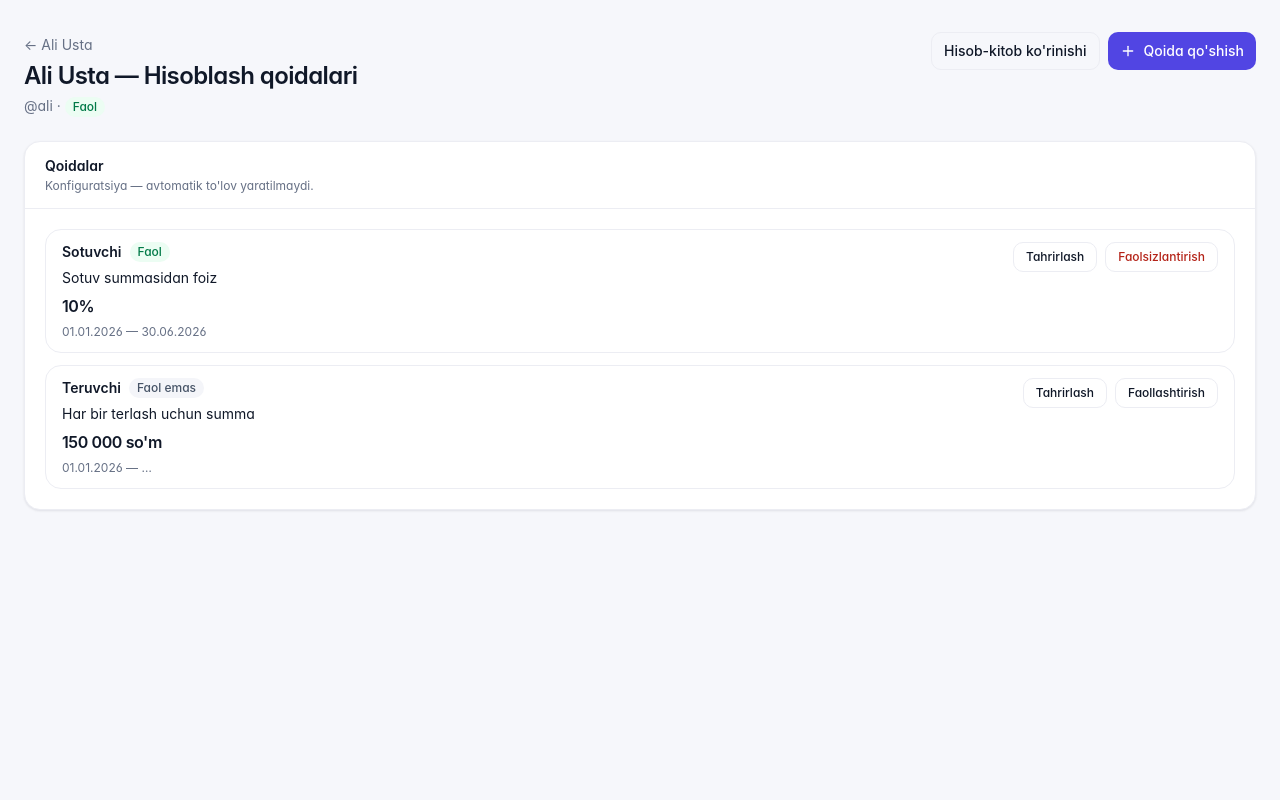
Scenario: WorkerCompensationPage › keeps dialog open and shows overlap error on 409
Step 1. Click the button "Qoida qo'shish" → click(1182, 51), box [1108, 32, 1256, 70]
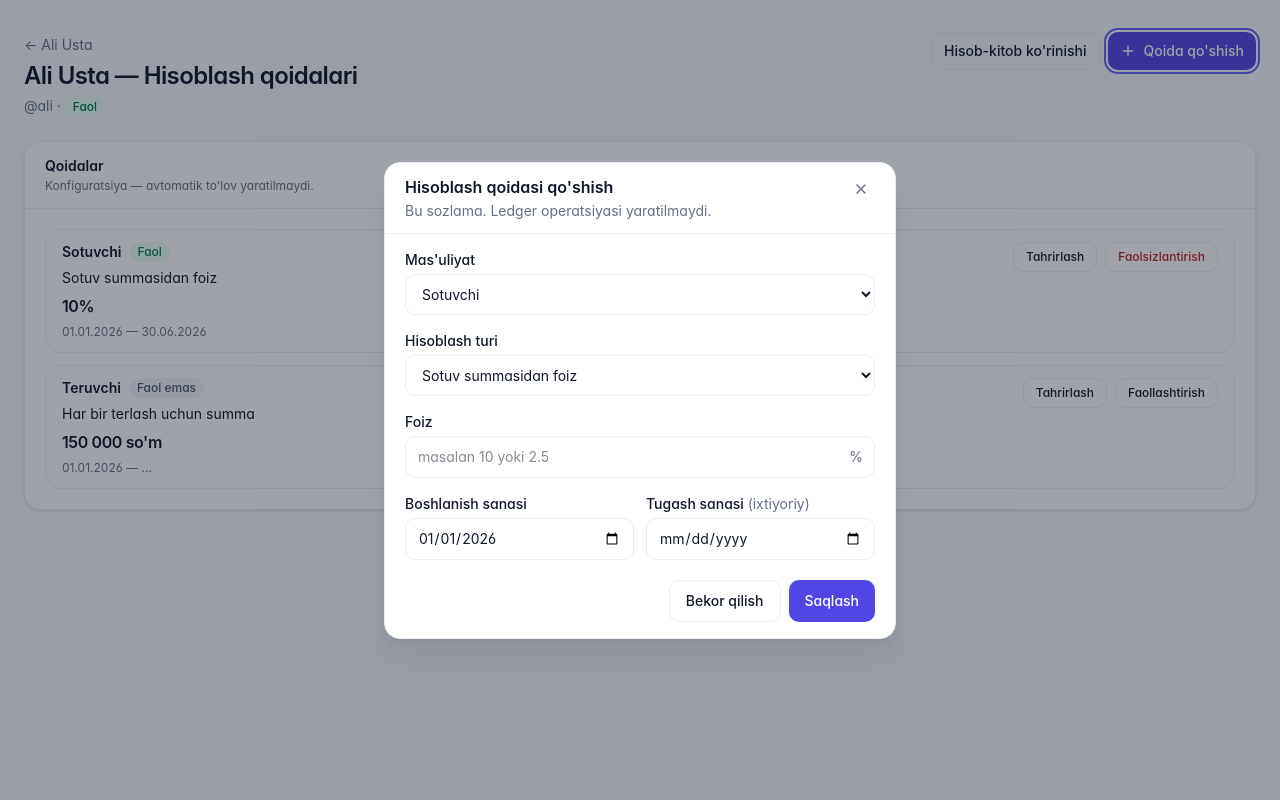
Step 2. Type "10" into the field labelled "Foiz" → (640, 456), box [405, 436, 875, 478]
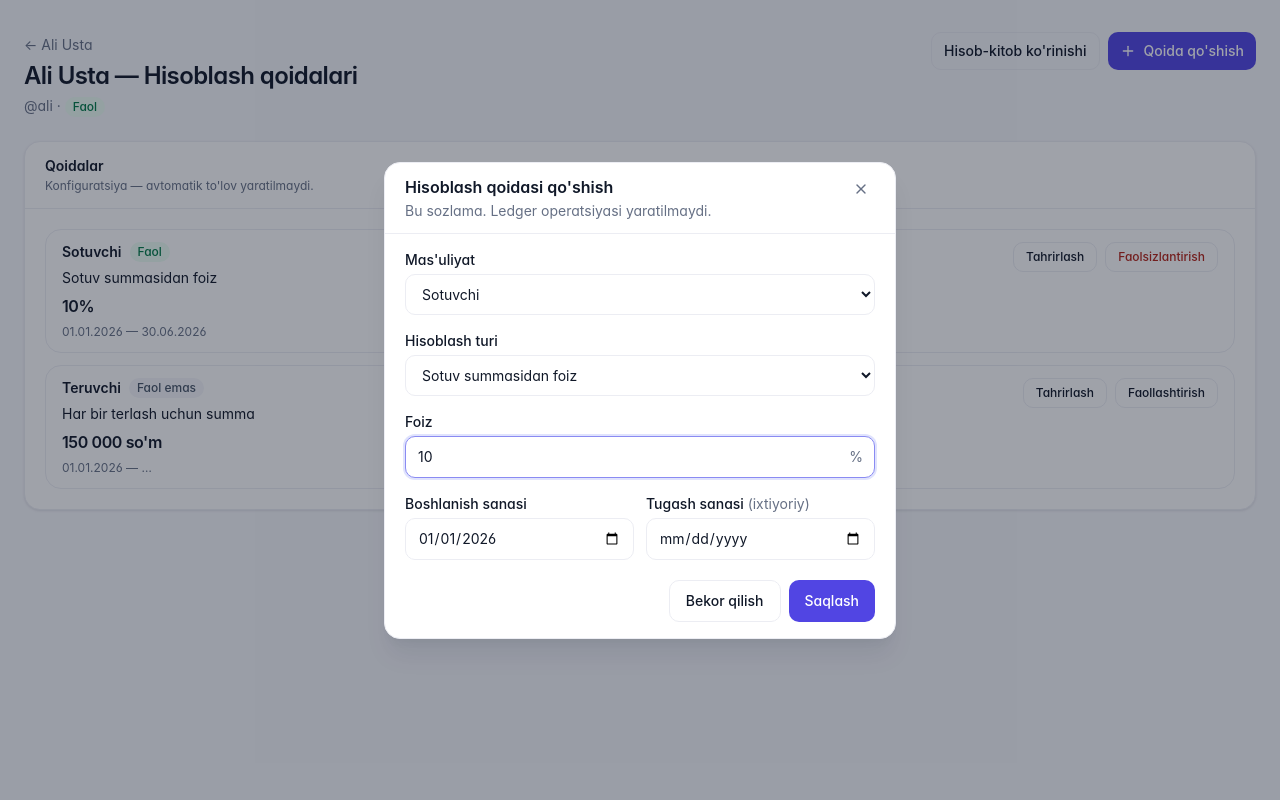
Step 3. Click the button "Saqlash" → click(832, 600), box [788, 580, 875, 622]
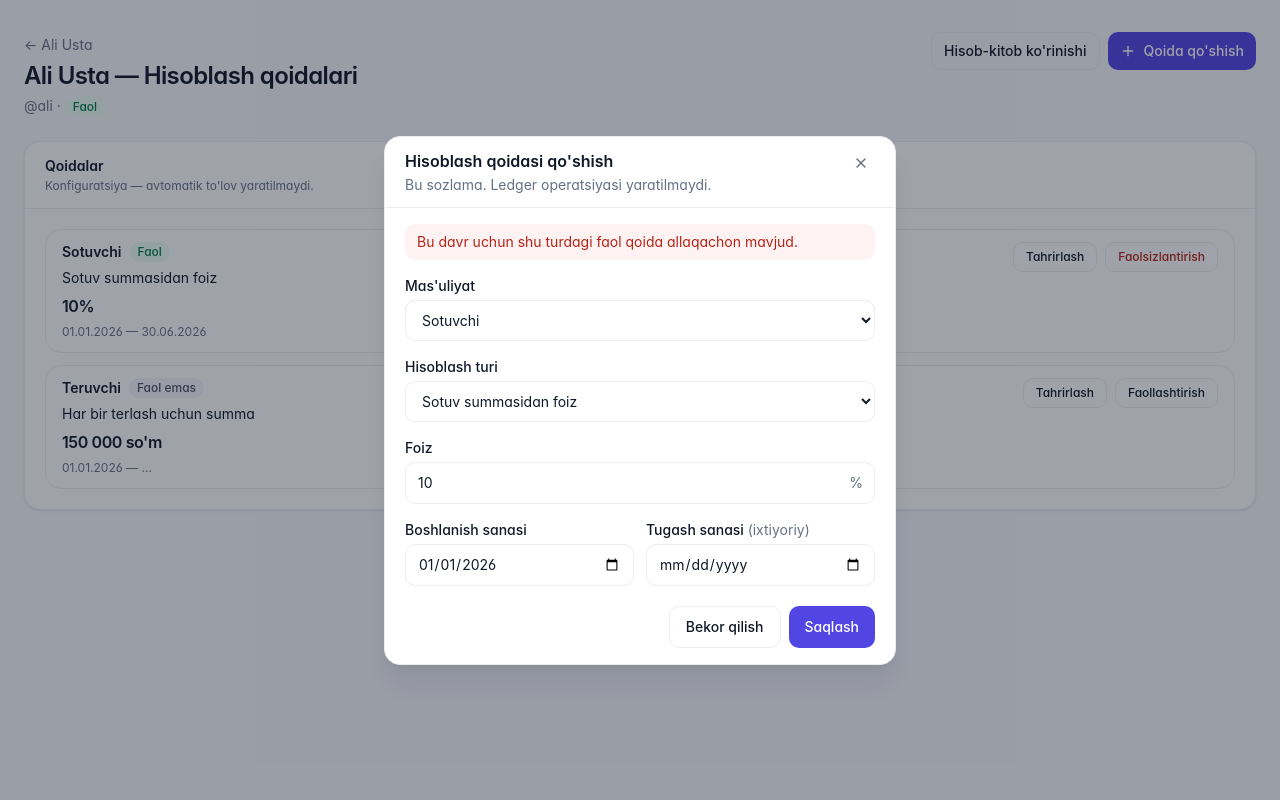
Result: the dialog is shown at [384, 136, 896, 664]
Result: the text "Bu davr uchun shu turdagi faol qoida allaqachon mavjud." is shown at [405, 224, 875, 260]
